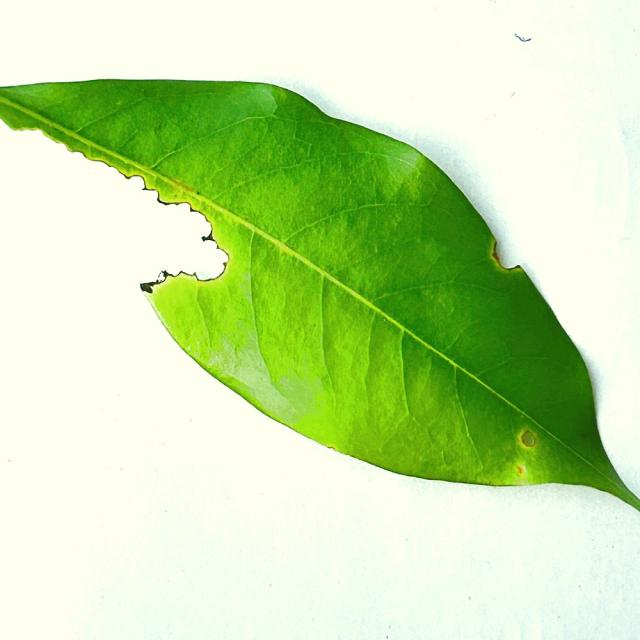Deficiency Leaf: (0, 135, 225, 284)
Lychee: (0, 79, 639, 513)
